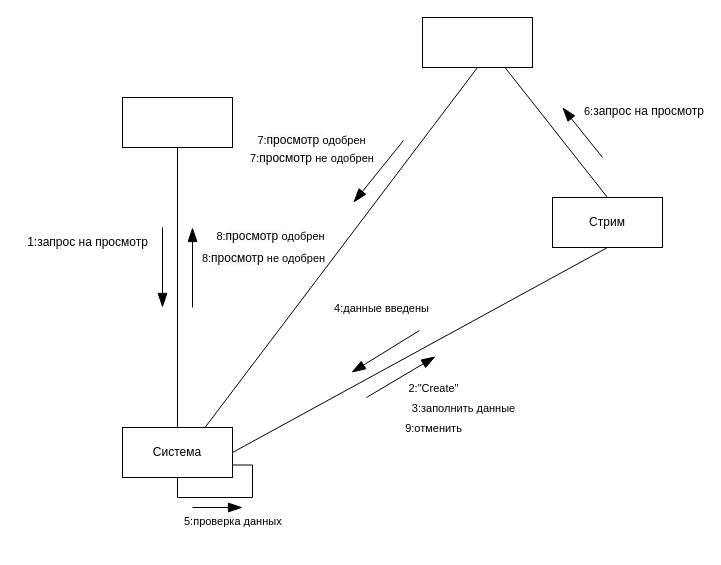
Some shapes in this 721 by 565 pixel diagram are drawn without their labels. Here are the shapes that lost their labels. From the top down, the centre of each, then its label:
At (x=477, y=42): "БД".
At (x=177, y=122): "Зритель".
